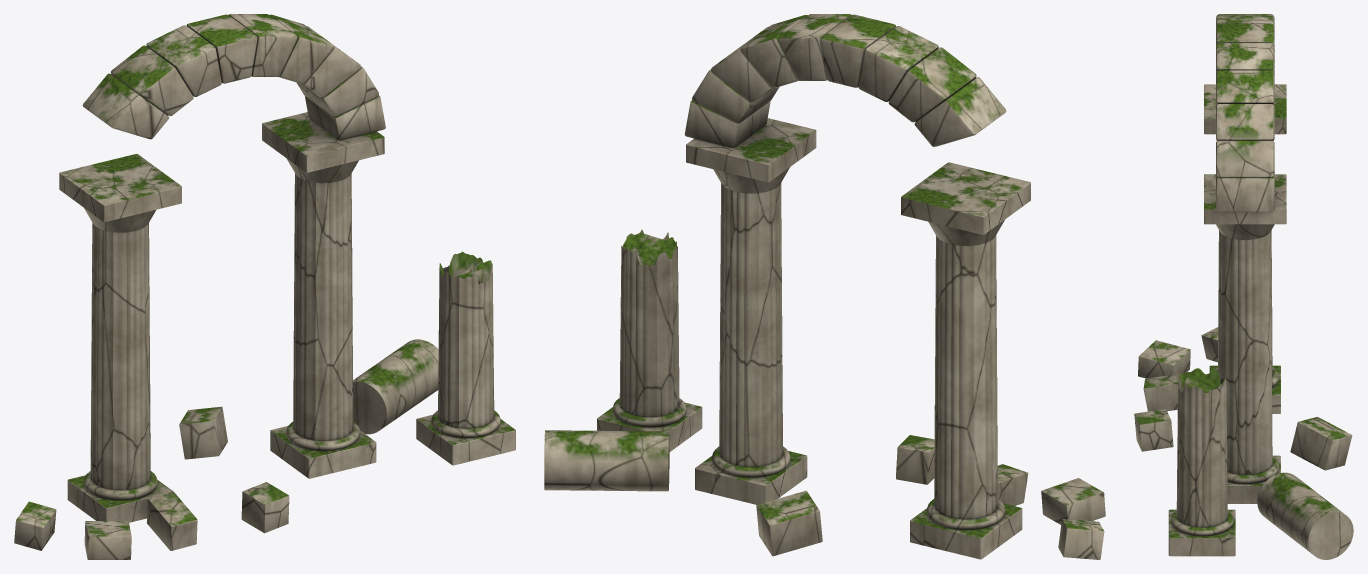
The model's file is ruins.glb.
3 views of the same model, side by side, from view 1: azimuth 30°, elevation 25°; view 2: azimuth 150°, elevation 25°; view 3: azimuth 270°, elevation 25° (orthographic). The views are drawn at different scales.
Parts seen in each view (by area): view 1: Ruins; view 2: Ruins; view 3: Ruins.
Boxes of the visible parts, x1,y1,x2,y2 form: Ruins: (14,14,515,559); Ruins: (544,14,1105,559); Ruins: (1134,14,1353,559).
Bounding box in the file's own units: 2.93 × 2.7 × 1.28.
Materials: 1 (1 with a texture image).
